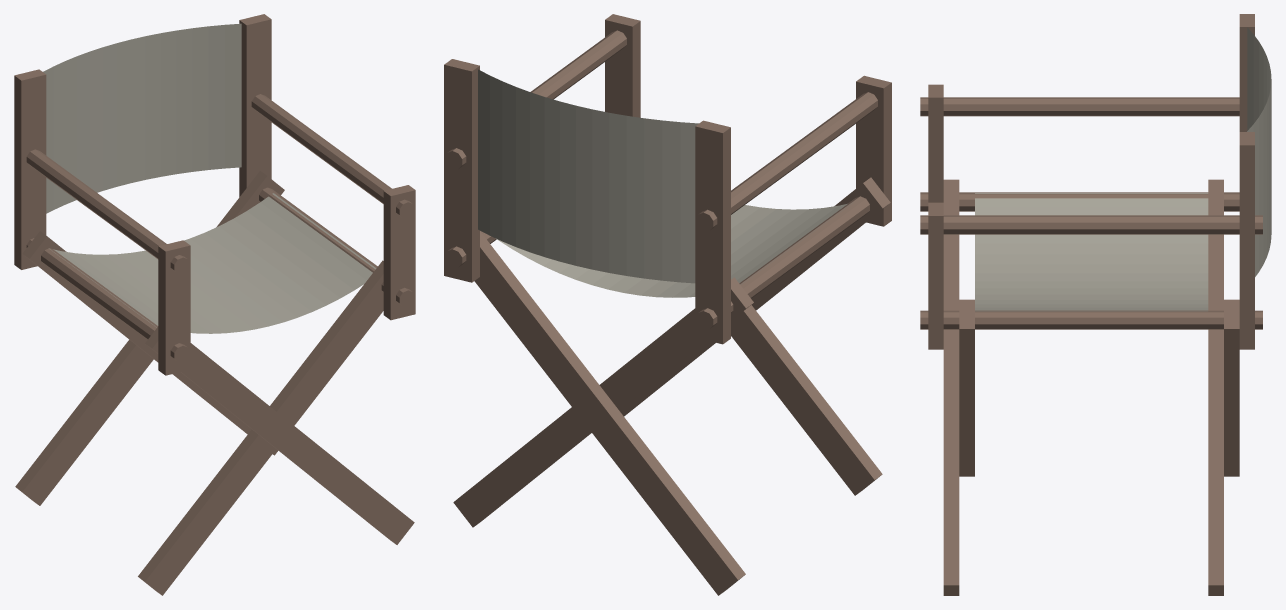
Rendered from Folding2.glb.
3 renders of one model, left to right at view 1: azimuth 30°, elevation 25°; view 2: azimuth 150°, elevation 25°; view 3: azimuth 270°, elevation 25°, orthographic. The views are drawn at different scales.
Parts seen in each view (by area): view 1: Node-Mesh, Node-Mesh_1; view 2: Node-Mesh, Node-Mesh_1; view 3: Node-Mesh, Node-Mesh_1.
Part boxes in pixels (box(x1,y1,x2,y2)): Node-Mesh: box(14, 14, 415, 595); Node-Mesh_1: box(43, 23, 376, 333); Node-Mesh: box(444, 14, 891, 595); Node-Mesh_1: box(478, 69, 853, 297); Node-Mesh: box(920, 14, 1262, 595); Node-Mesh_1: box(975, 27, 1271, 311).
Size of the model in its own units: 21.04 by 32.41 by 22.56.
